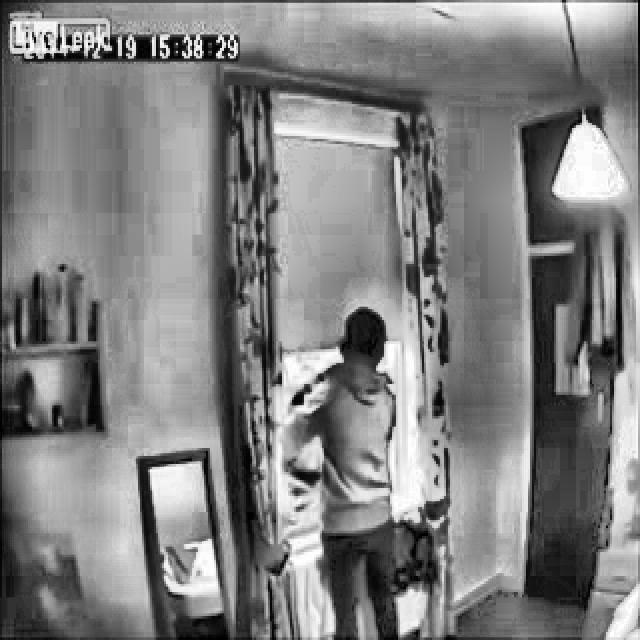burglary: (274, 299, 414, 640)
